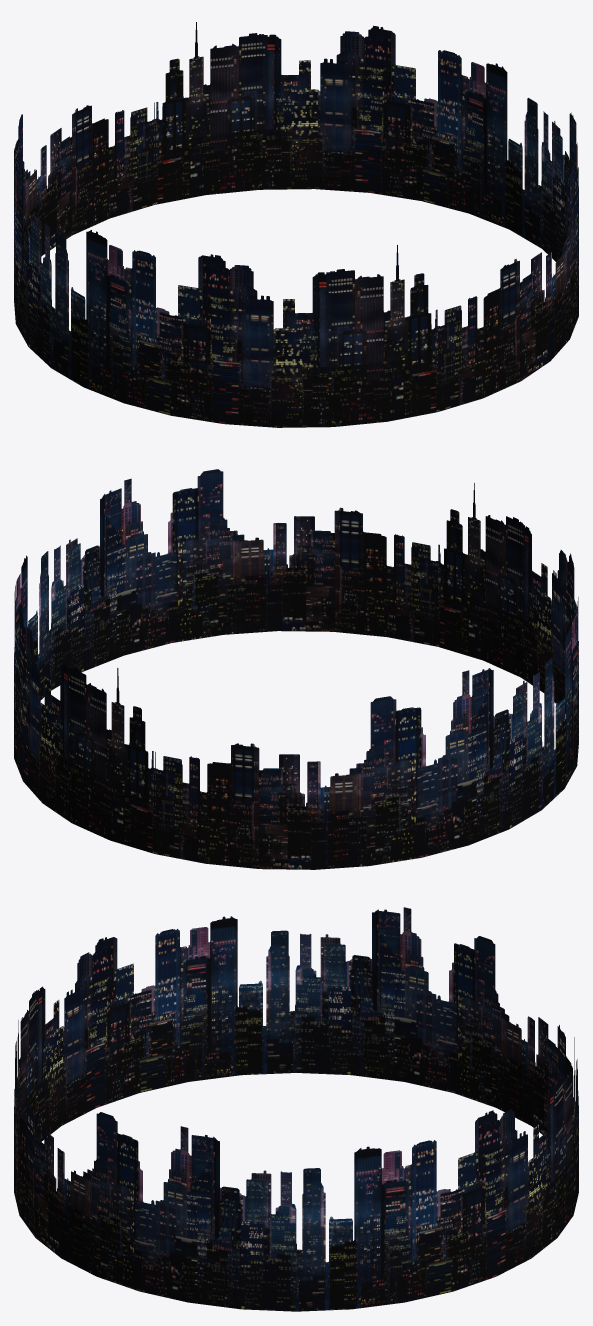
The model's file is skyline_transparent 6.fbx.
3 views of the same model, one above another, from view 1: azimuth 30°, elevation 25°; view 2: azimuth 150°, elevation 25°; view 3: azimuth 270°, elevation 25° (orthographic).
Visible parts, largest first — view 1: Cylinder; view 2: Cylinder; view 3: Cylinder.
Boxes of the visible parts, bbox=[...] form: Cylinder: bbox=[14, 22, 578, 427]; Cylinder: bbox=[14, 469, 578, 869]; Cylinder: bbox=[14, 907, 578, 1311].
Bounding box in the file's own units: 22994 × 7843 × 22994.
1 material, 1 textured.
